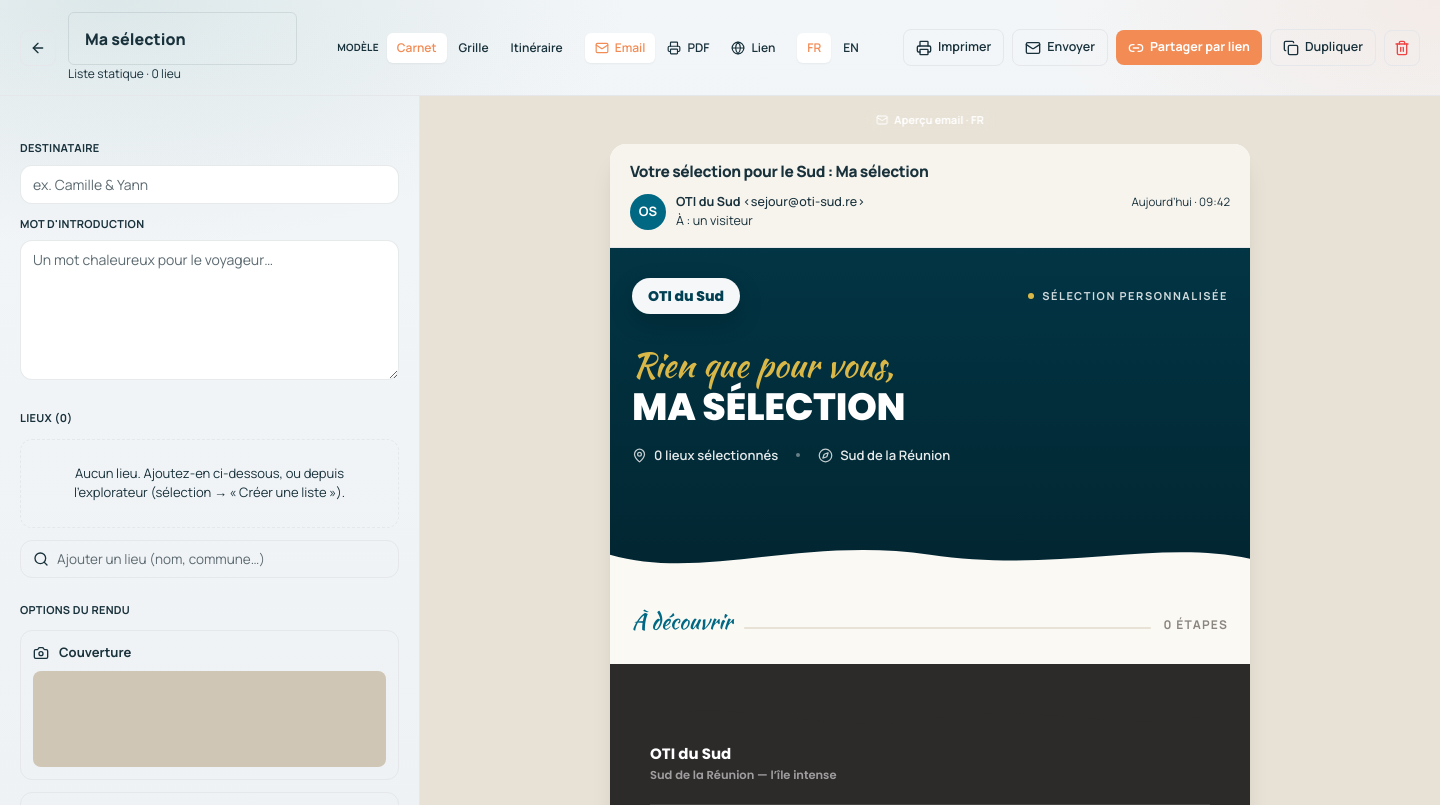
Test: ListComposeView — palette « Ajouter un lieu » restreinte aux publiés › un brouillon renvoyé par la recherche globale n’apparaît PAS comme candidat
The width and height of the screenshot is (1440, 805).
Type "fi" into the field with placeholder "Ajouter un lieu (nom, commune…)".
click(222, 559); type("fi")  # box left=57, top=549, right=386, bottom=569
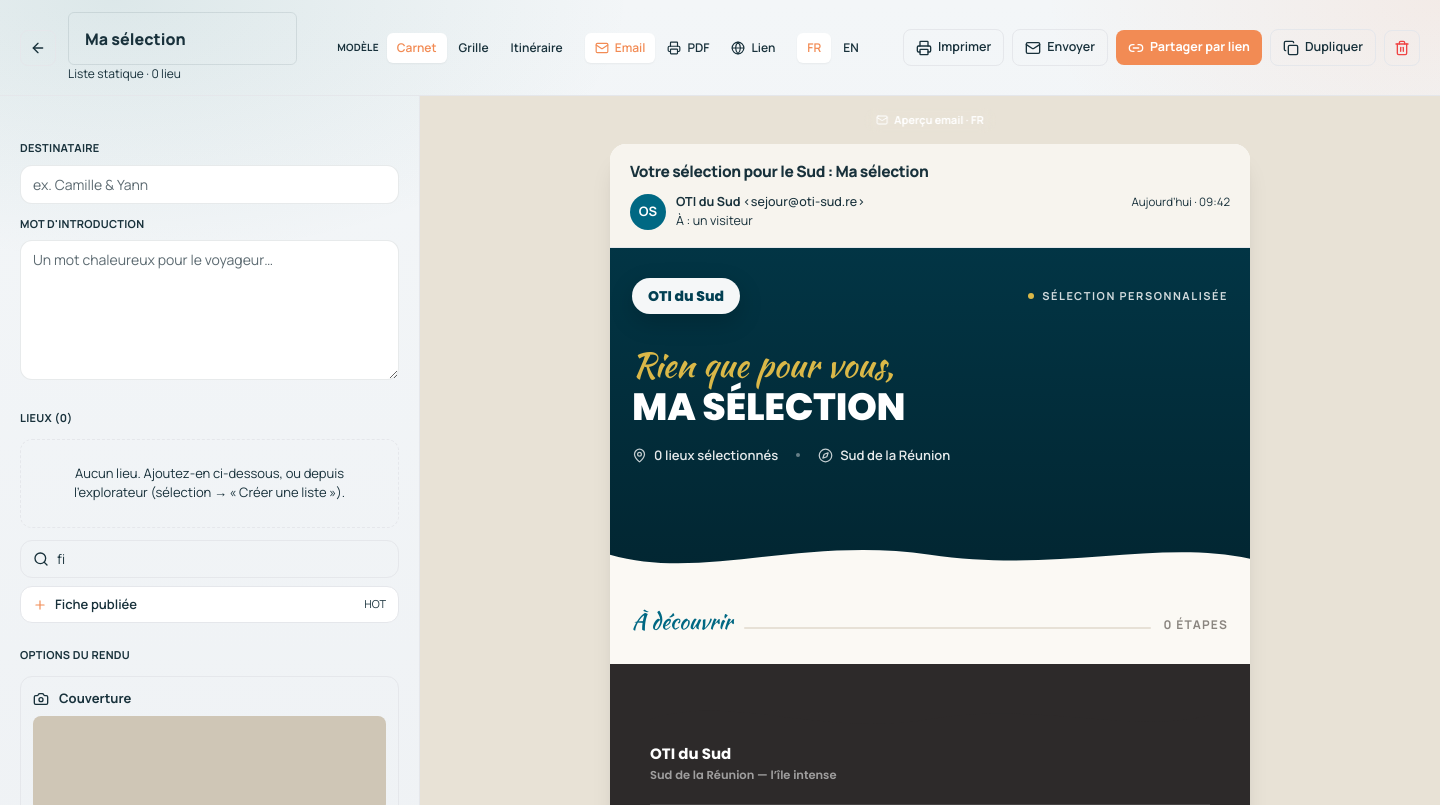
Expected: the text "Fiche publiée" is shown, left=55, top=595, right=137, bottom=614
